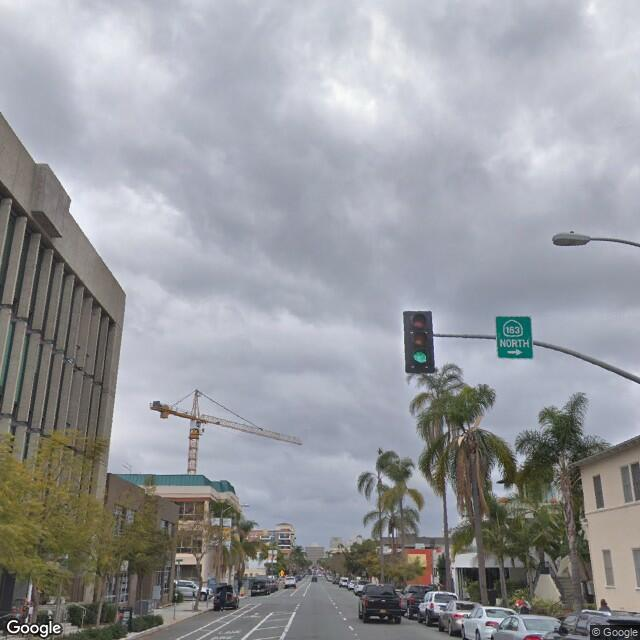light: (550, 227, 591, 247)
